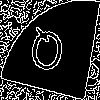Q: (25, 25, 67, 82)
